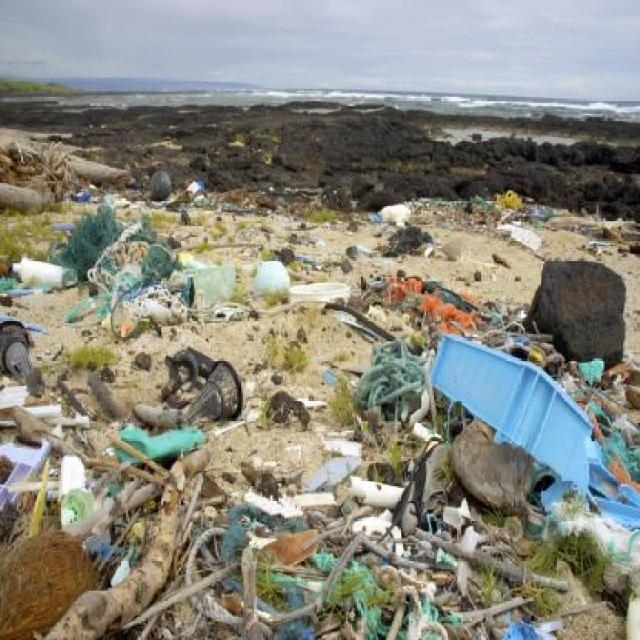garbage: (0, 136, 639, 640)
